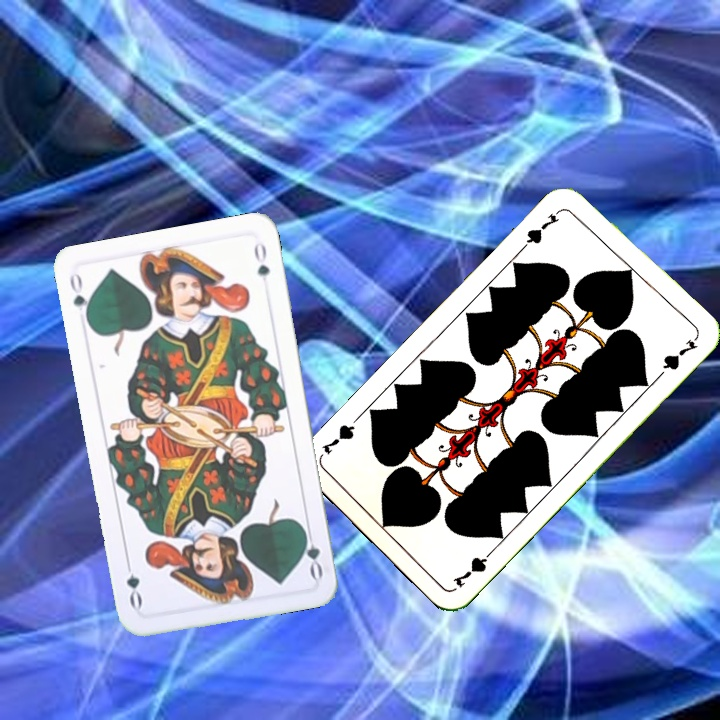G7: (448, 544, 498, 590), (519, 205, 565, 251)
GO: (297, 522, 326, 581), (65, 269, 93, 328)
